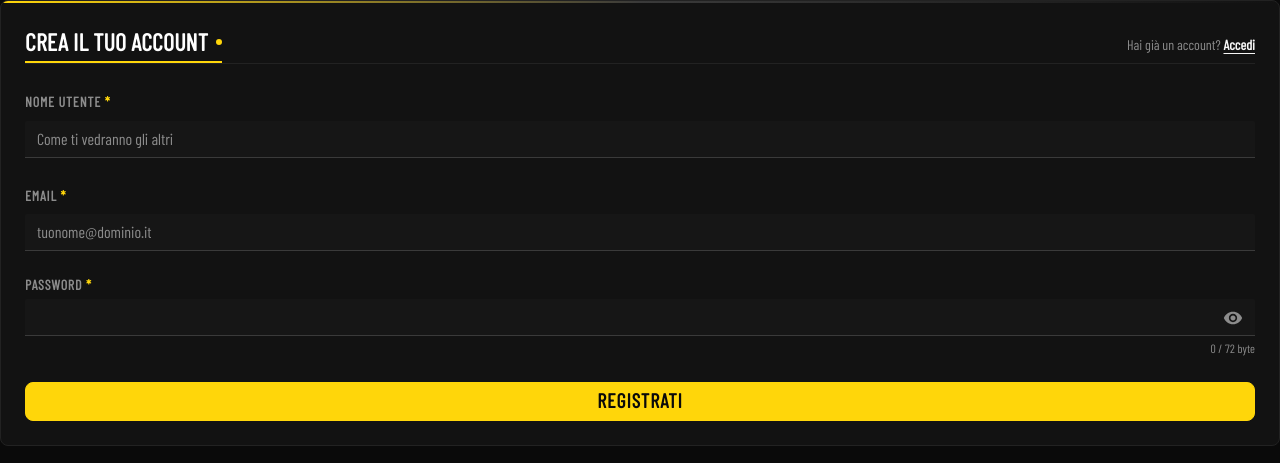
Test: RegisterPage › il contatore conta i byte, non i caratteri
This screenshot has width=1280, height=463.
Type "abè" into the password field labelled "Password" at (640, 318), box [25,299,1255,336]
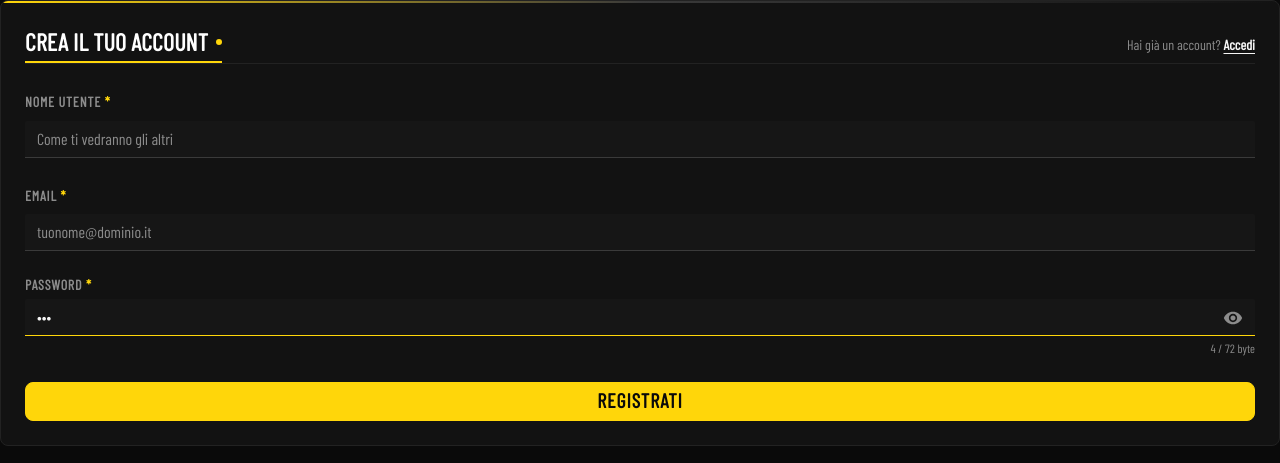
expect the text "4 / 72 byte" is shown: met, box [1211,341,1255,355]
